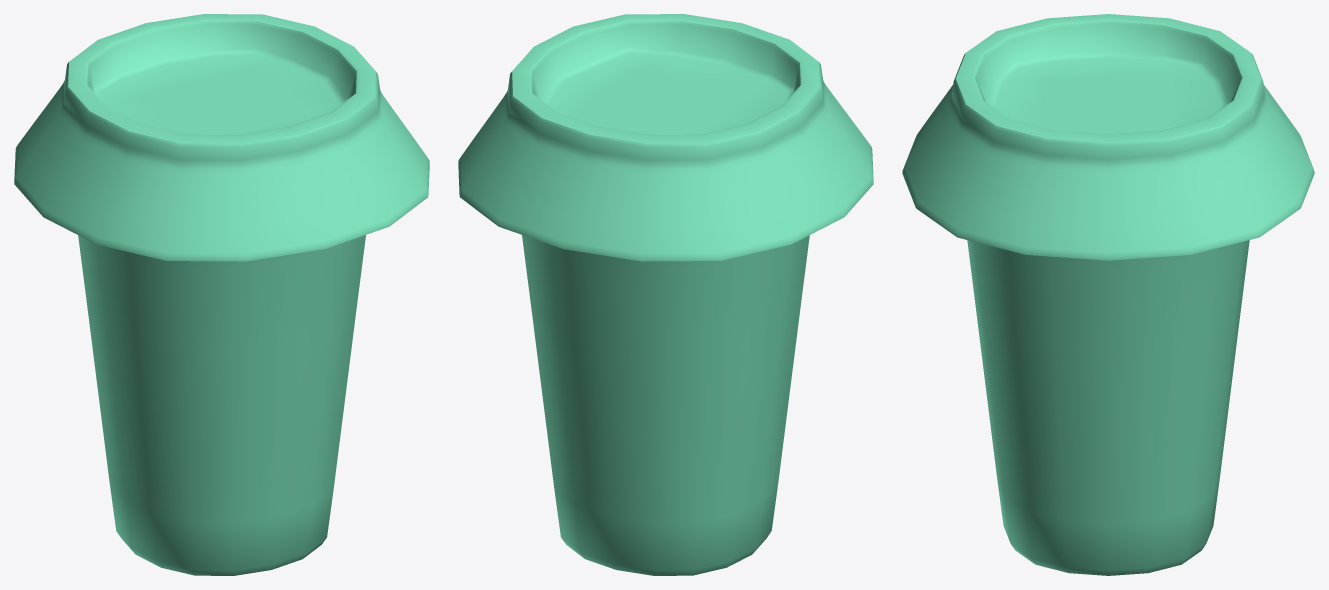
The model's file is ModelosInteractuablesBotePlastiV1_2.fbx.
The picture shows the model from 3 angles, left to right: view 1: azimuth 30°, elevation 25°; view 2: azimuth 150°, elevation 25°; view 3: azimuth 270°, elevation 25°; orthographic projection.
Visible parts, largest first — view 1: BoteV1; view 2: BoteV1; view 3: BoteV1.
Part boxes in pixels (x1=…): BoteV1: x1=14, y1=14, x2=429, y2=575; BoteV1: x1=458, y1=14, x2=873, y2=575; BoteV1: x1=902, y1=14, x2=1314, y2=575.
Size of the model in its own units: 231 by 283 by 231.
